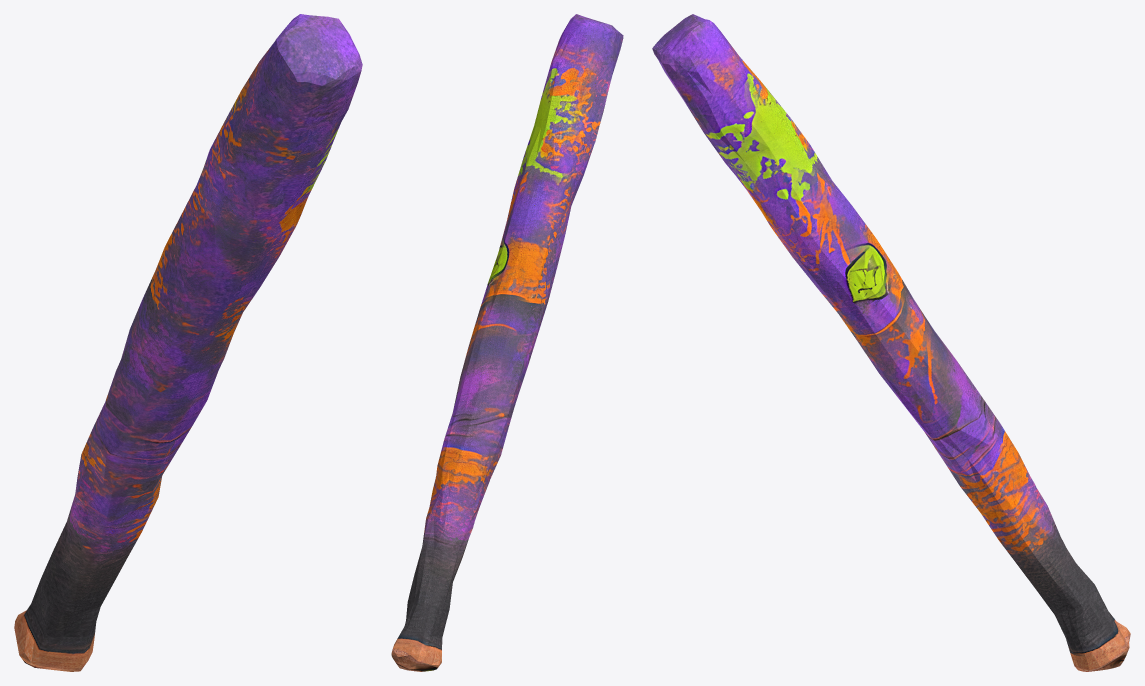
The model's file is prop-baton.glb.
3 views of the same model, side by side, from view 1: azimuth 30°, elevation 25°; view 2: azimuth 150°, elevation 25°; view 3: azimuth 270°, elevation 25° (orthographic). The views are drawn at different scales.
Visible parts, largest first — view 1: tripo_node_9e78bf9a-5962-467d-b6bc-6fd2b497ae74; view 2: tripo_node_9e78bf9a-5962-467d-b6bc-6fd2b497ae74; view 3: tripo_node_9e78bf9a-5962-467d-b6bc-6fd2b497ae74.
Boxes of the visible parts, x1,y1,x2,y2 form: tripo_node_9e78bf9a-5962-467d-b6bc-6fd2b497ae74: (14, 14, 362, 671); tripo_node_9e78bf9a-5962-467d-b6bc-6fd2b497ae74: (391, 14, 623, 671); tripo_node_9e78bf9a-5962-467d-b6bc-6fd2b497ae74: (652, 14, 1130, 671).
Size of the model in its own units: 0.1218 by 1 by 0.6747.
Materials: 1 (1 with a texture image).
